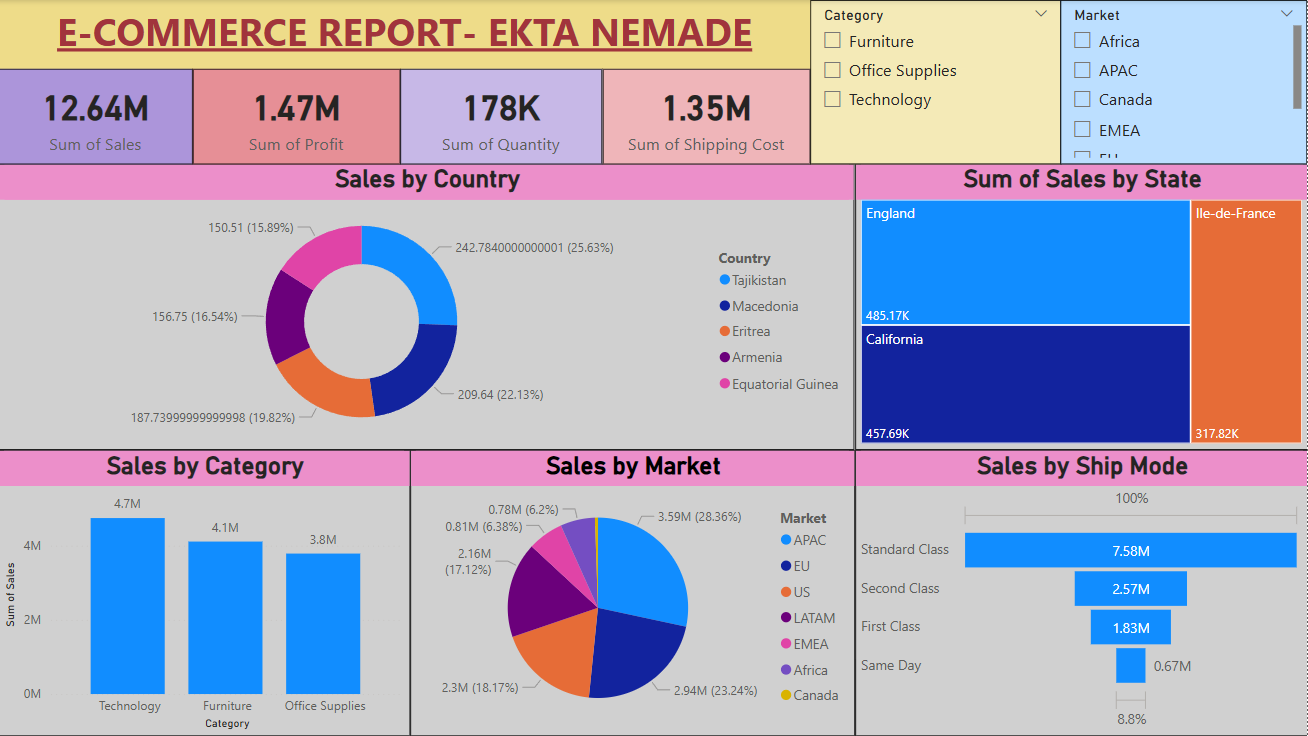

The dashboard page shown, as its layout file describes it:
{"tool":"powerbi","page":{"name":"Page 1","canvas":[1280,720],"ordinal":0},"visuals":[{"type":"columnChart","title":" Sales by Category","fields":{"Category":["Orders.Category"],"Y":["Sum(Orders.Sales)"]},"box":[0,440.5,402.1,279.9],"z":0},{"type":"pieChart","title":"Sales by Market","fields":{"Category":["Orders.Market"],"Y":["Sum(Orders.Sales)"]},"box":[402.1,440.5,435,279.9],"z":1000},{"type":"funnel","title":"Sales by Ship Mode","fields":{"Category":["Orders.Ship Mode"],"Y":["Sum(Orders.Sales)"]},"box":[837.1,440.5,443.2,279.9],"z":2000},{"type":"donutChart","title":" Sales by Country","fields":{"Category":["Orders.Country"],"Y":["Sum(Orders.Sales)"]},"box":[0,160.5,837.1,279.9],"z":3000},{"type":"treemap","fields":{"Group":["Orders.State"],"Values":["Sum(Orders.Sales)"]},"box":[837.1,160.5,443.2,279.9],"z":4000},{"type":"card","fields":{"Values":["Sum(Orders.Sales)"]},"box":[0,67.2,189.4,93.3],"z":5000},{"type":"card","fields":{"Values":["Sum(Orders.Profit)"]},"box":[189.4,67.2,203.1,93.3],"z":6000},{"type":"card","fields":{"Values":["Sum(Orders.Quantity)"]},"box":[392.5,67.2,197.6,93.3],"z":7000},{"type":"card","fields":{"Values":["Sum(Orders.Shipping Cost)"]},"box":[590.1,67.2,203.1,93.3],"z":8000},{"type":"slicer","fields":{"Values":["Orders.Category"]},"box":[793.1,0,245.6,160.5],"z":9000},{"type":"slicer","fields":{"Values":["Orders.Market"]},"box":[1038.8,0,241.5,160.5],"z":10000},{"type":"textbox","box":[0,0,793.6,67.3],"z":11000}]}

Visuals, with their boxes in screenshot pixels (x1, y1, x2, y2), scaled from the page's 1280x720 canvas onto the 1308x736 screenshot:
" Sales by Category" columnChart: bbox(0, 450, 411, 735)
"Sales by Market" pieChart: bbox(411, 450, 855, 735)
"Sales by Ship Mode" funnel: bbox(855, 450, 1307, 735)
" Sales by Country" donutChart: bbox(0, 164, 855, 450)
treemap - Orders.State x Sum(Orders.Sales): bbox(855, 164, 1307, 450)
card - Sum(Orders.Sales): bbox(0, 69, 194, 164)
card - Sum(Orders.Profit): bbox(194, 69, 401, 164)
card - Sum(Orders.Quantity): bbox(401, 69, 603, 164)
card - Sum(Orders.Shipping Cost): bbox(603, 69, 811, 164)
slicer - Orders.Category: bbox(810, 0, 1061, 164)
slicer - Orders.Market: bbox(1062, 0, 1307, 164)
textbox: bbox(0, 0, 811, 69)
